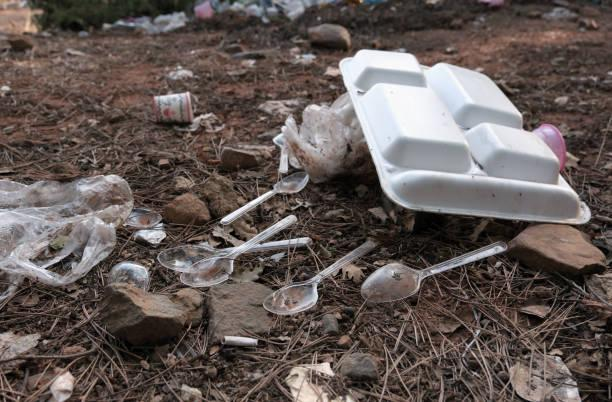LDPE: (0, 174, 134, 300), (271, 89, 370, 185)
PS: (337, 49, 594, 224), (155, 214, 309, 288), (359, 240, 514, 303), (261, 238, 382, 316), (219, 170, 310, 227)
